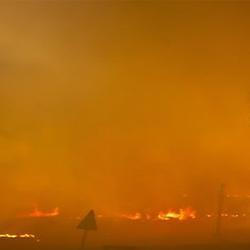fire: (160, 208, 194, 221), (26, 209, 58, 215)
